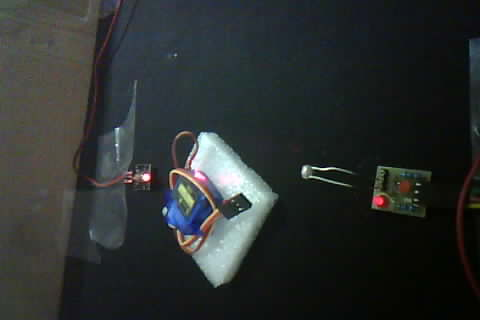motor: (155, 124, 275, 272)
